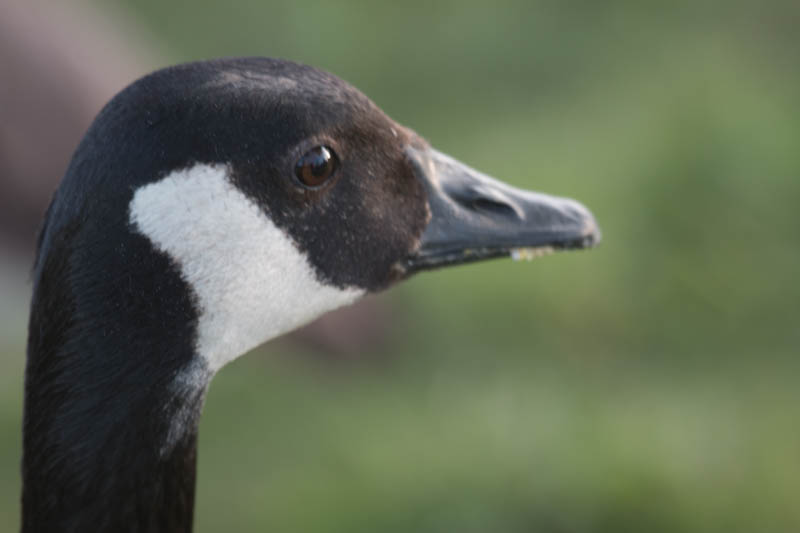goose-head: (28, 56, 604, 386)
